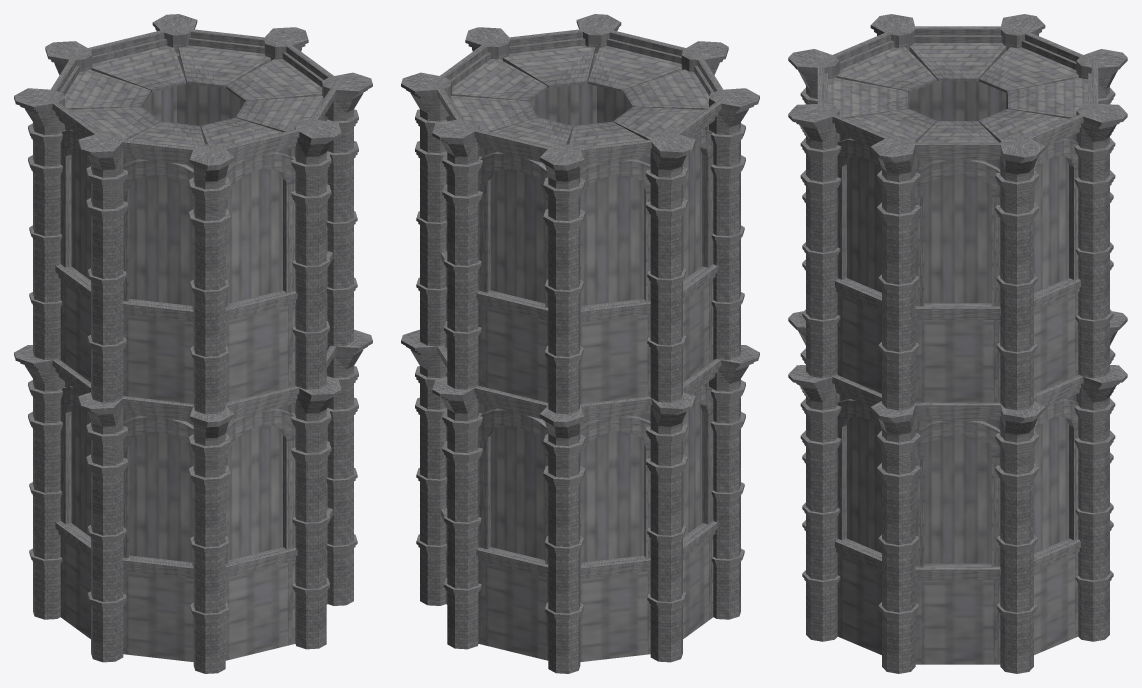
The model's file is Tower.obj.
The picture shows the model from 3 angles, left to right: view 1: azimuth 30°, elevation 25°; view 2: azimuth 150°, elevation 25°; view 3: azimuth 270°, elevation 25°; orthographic projection.
Visible parts, largest first — view 1: 平面.002_平面.006; view 2: 平面.002_平面.006; view 3: 平面.002_平面.006.
Part boxes in pixels (x1,y1,x2,y2): 平面.002_平面.006: [14, 14, 372, 673]; 平面.002_平面.006: [401, 14, 759, 673]; 平面.002_平面.006: [788, 14, 1127, 673].
Size of the model in its own units: 20.09 by 34.2 by 20.09.
1 material, 1 textured.
